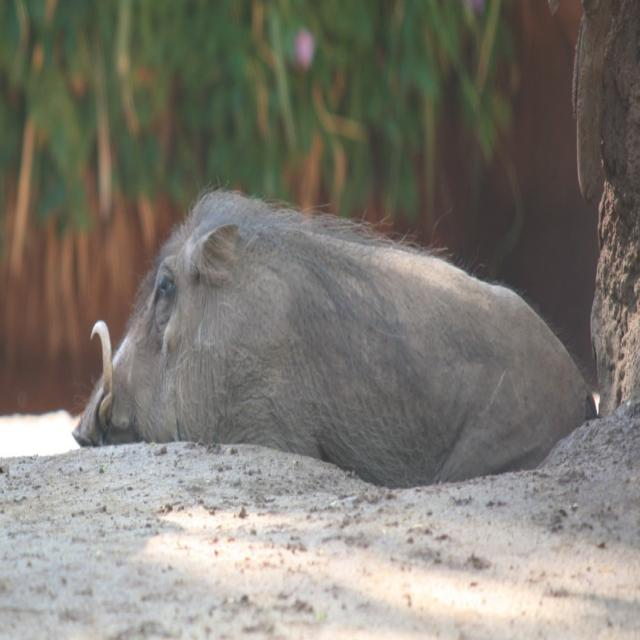pig: (73, 190, 601, 491)
